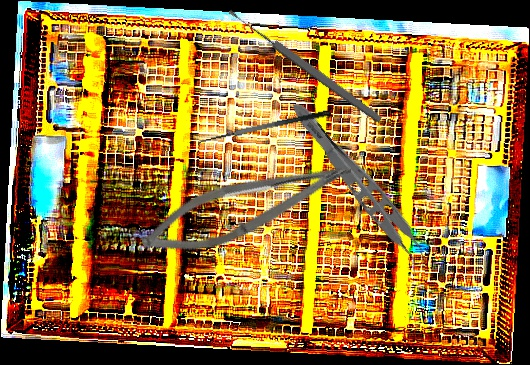Micro Scissor: (133, 135, 359, 274)
Spatula Surgical: (196, 109, 334, 153)
Surgical Spoon: (226, 6, 384, 125)
Tissue Forceps: (276, 97, 440, 278)
